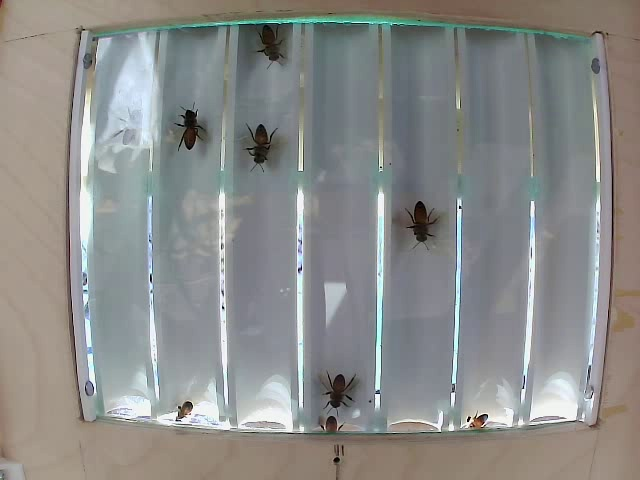bee: (397, 195, 442, 256), (235, 122, 282, 178), (319, 365, 362, 416), (249, 23, 292, 69), (174, 106, 211, 154)
